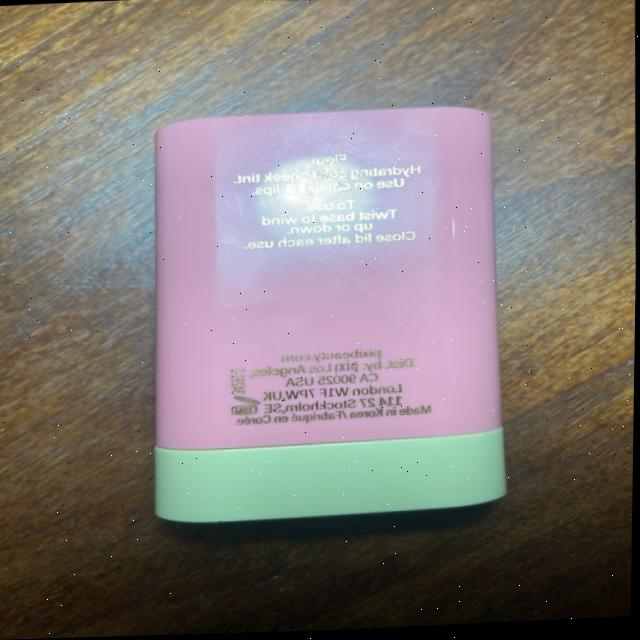lotion: (118, 105, 527, 543)
